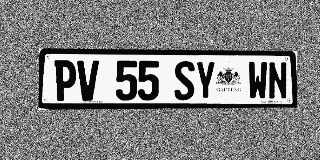5: (116, 61, 137, 101), (138, 61, 159, 101)
N: (268, 62, 288, 100)
P: (54, 60, 76, 101)
S: (174, 61, 195, 100)
V: (77, 60, 99, 101)
W: (248, 61, 268, 100)
Y: (195, 61, 216, 100)
